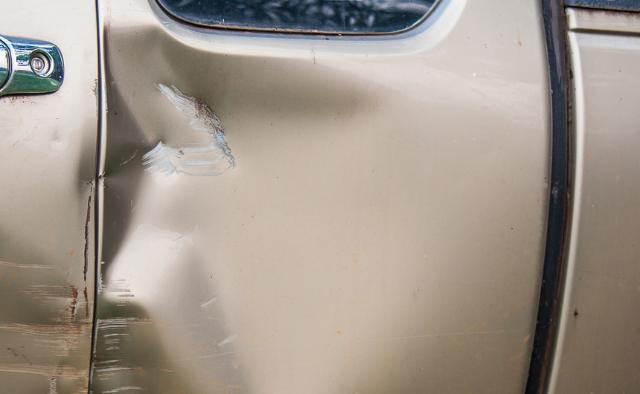Fender: (107, 13, 480, 394)
